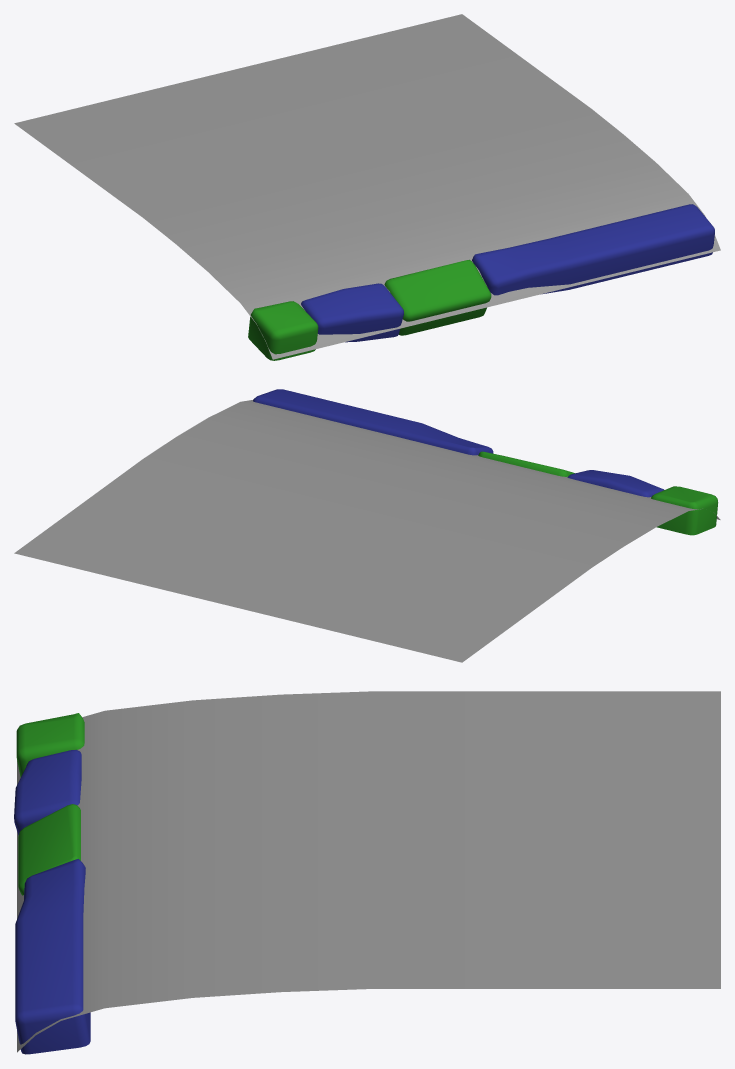
File: bordur 2.FBX
3 renders of one model, top to bottom at view 1: azimuth 30°, elevation 25°; view 2: azimuth 150°, elevation 25°; view 3: azimuth 270°, elevation 25°, orthographic. The views are drawn at different scales.
Visible parts, largest first — view 1: Plane207; view 2: Plane207; view 3: Plane207.
Part boxes in pixels (left/top/right/bottom): Plane207: left=14, top=14, right=720, bottom=360; Plane207: left=14, top=389, right=720, bottom=662; Plane207: left=14, top=691, right=720, bottom=1054.
Size of the model in its own units: 4 by 0.5282 by 4.02.
